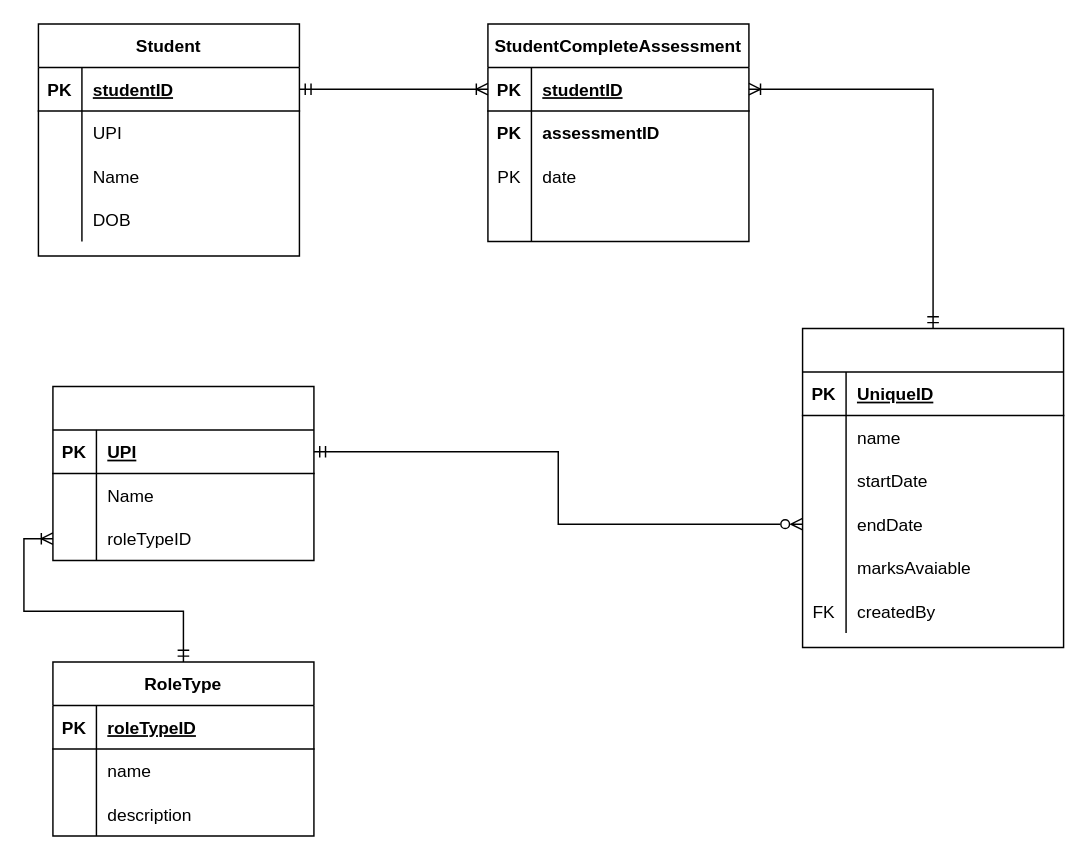
The diagram is 1088 pixels wide and 860 high, and some of its shapes have lost their labels. The box of each missing label's shape, as (x1, y1, x2, y2) in pixels:
Assessment: (801, 327, 1064, 647)
Instructor: (51, 385, 314, 560)
